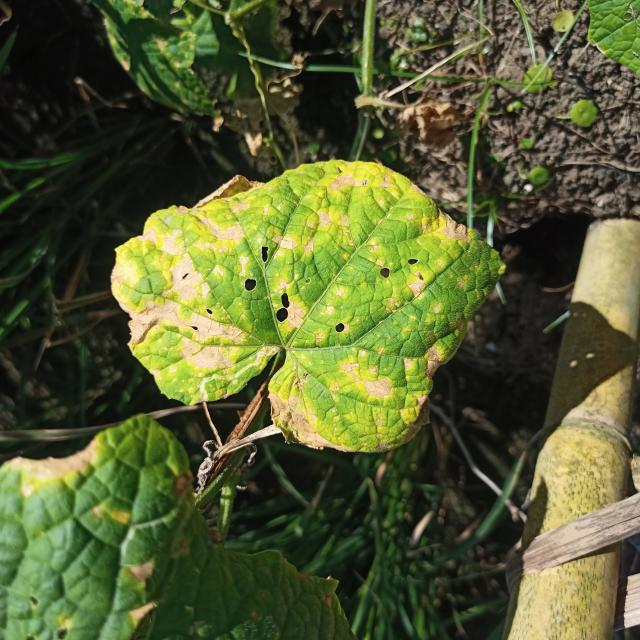disease_cucumber: (110, 159, 496, 453)
